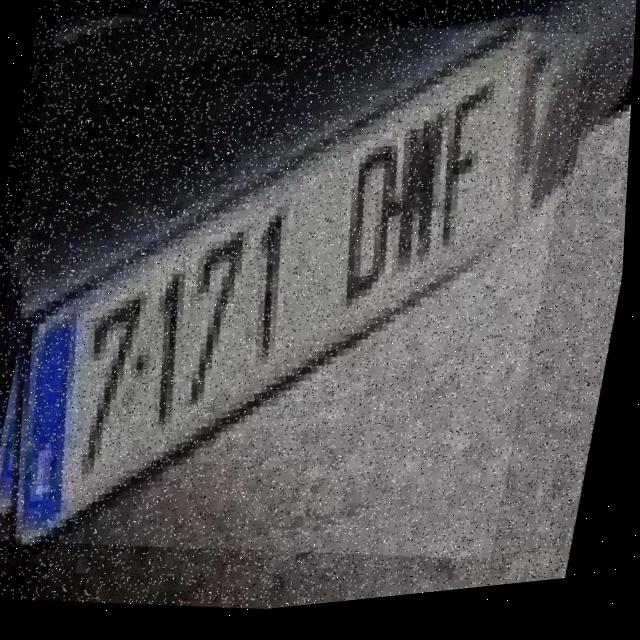LicensePlate: (0, 0, 593, 613)
